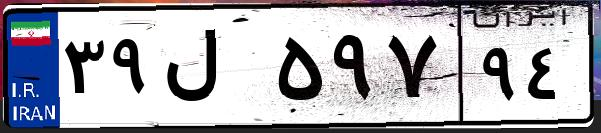3: (57, 26, 110, 100)
4: (525, 38, 570, 115)
5: (270, 28, 330, 110)
7: (385, 28, 445, 110)
9: (330, 28, 385, 110), (475, 38, 525, 113), (110, 28, 158, 98)
ل: (158, 20, 270, 120)
